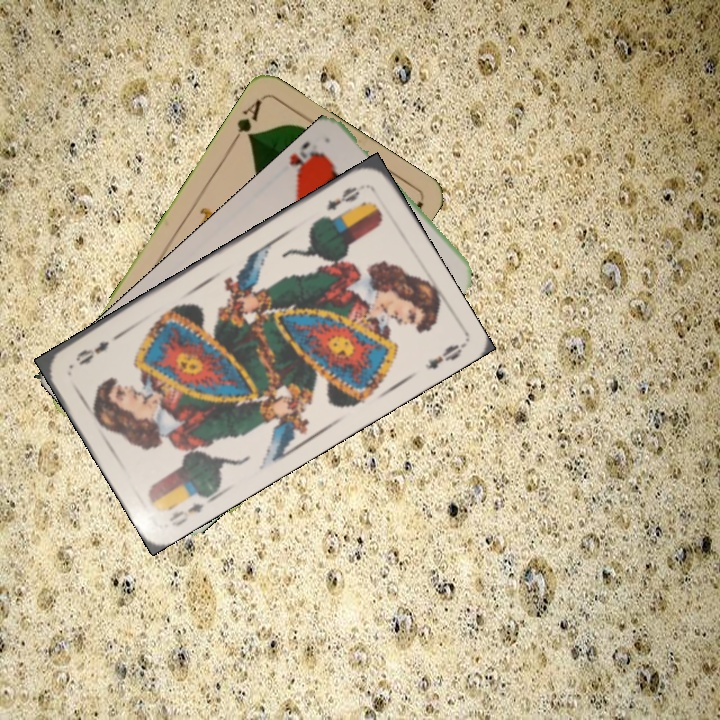EO: (164, 487, 217, 530), (322, 182, 363, 214)
GA: (227, 95, 265, 148)
HO: (285, 138, 328, 184)
